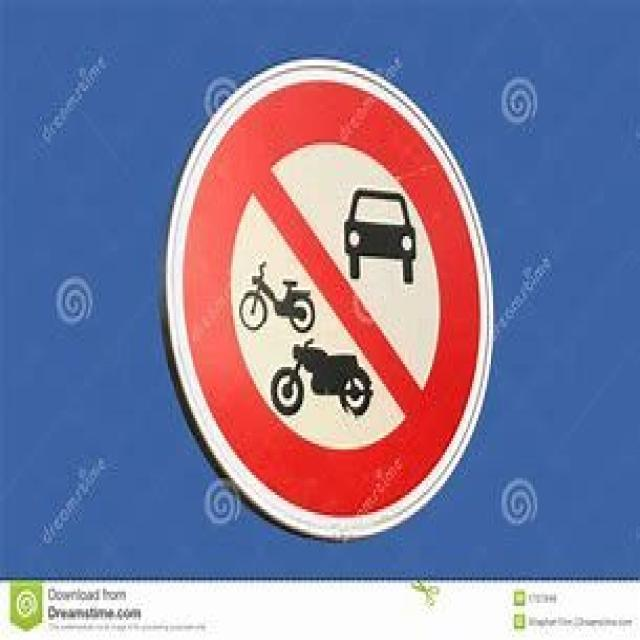all motor vehicle prohibited: (183, 80, 483, 519)
